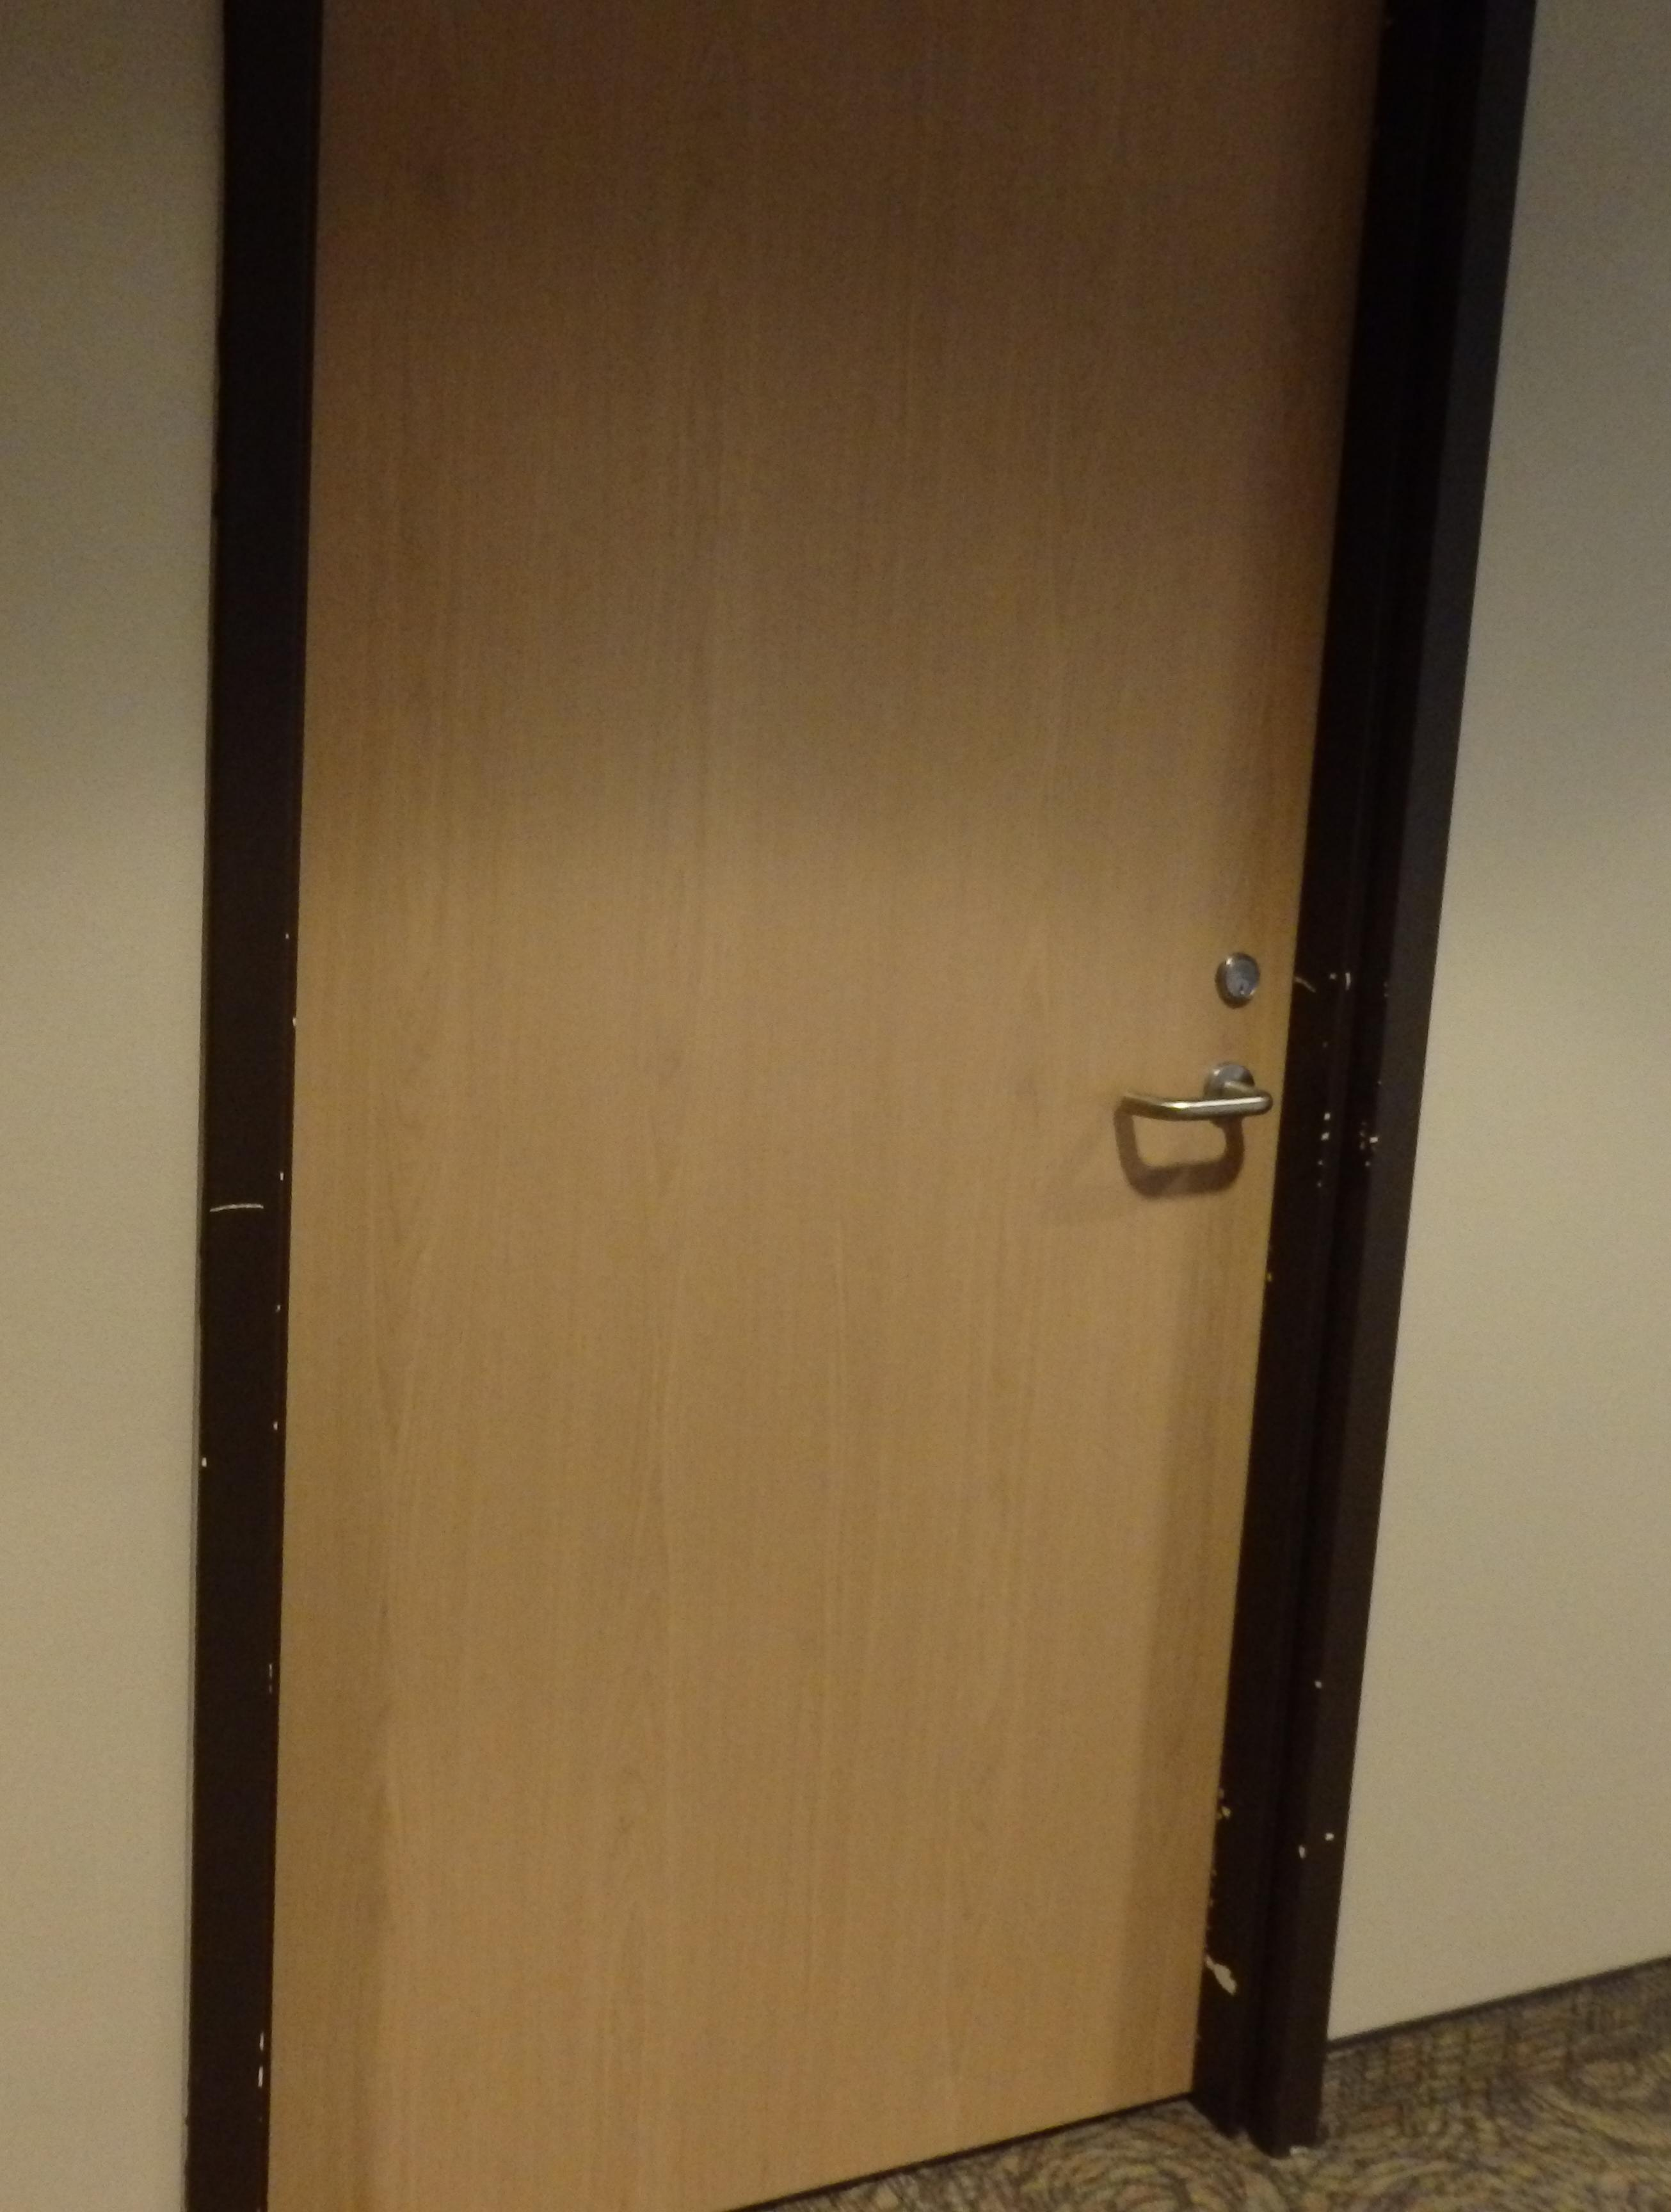door: (272, 7, 1357, 2210)
